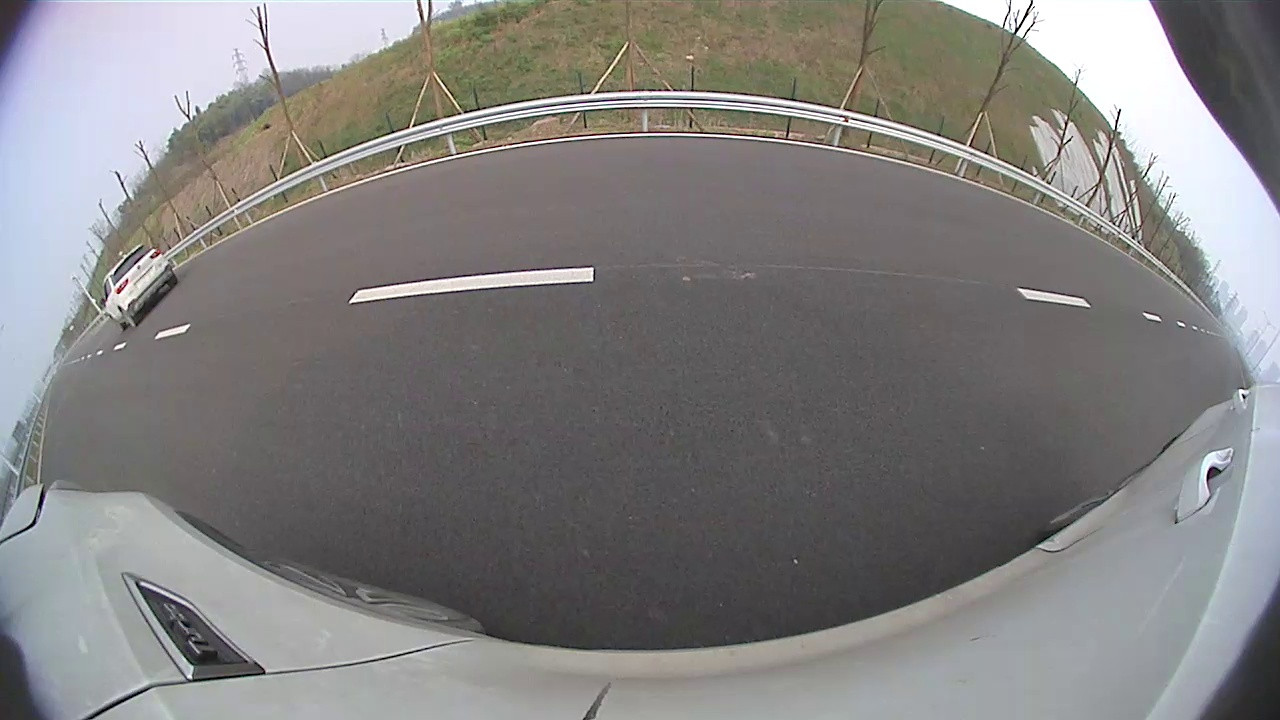car: (102, 244, 178, 331)
rear: (119, 307, 136, 329)
